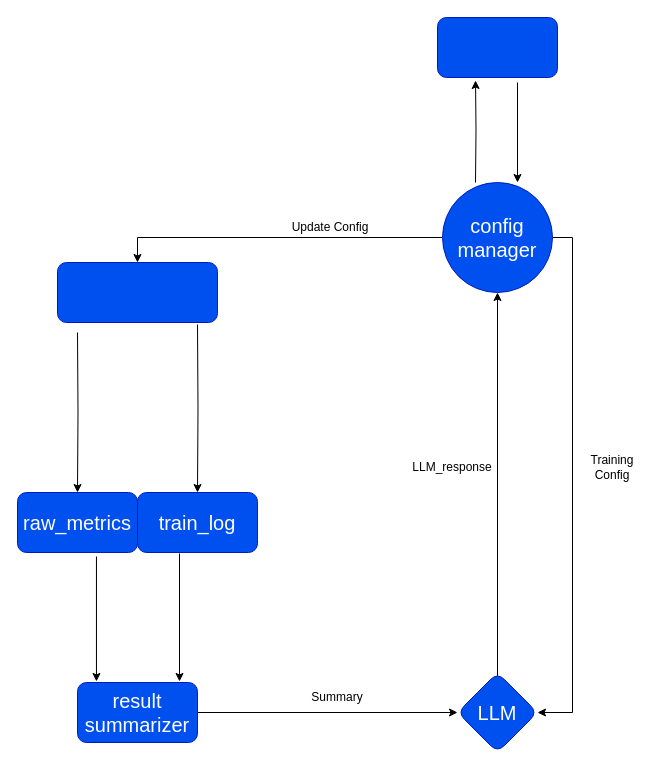
Image size: 665x770. Some labels were removed from this diagram. Each missing label, with the centre of its shape:
"RL runner" goes at (137,292).
"validation check" goes at (497,47).
